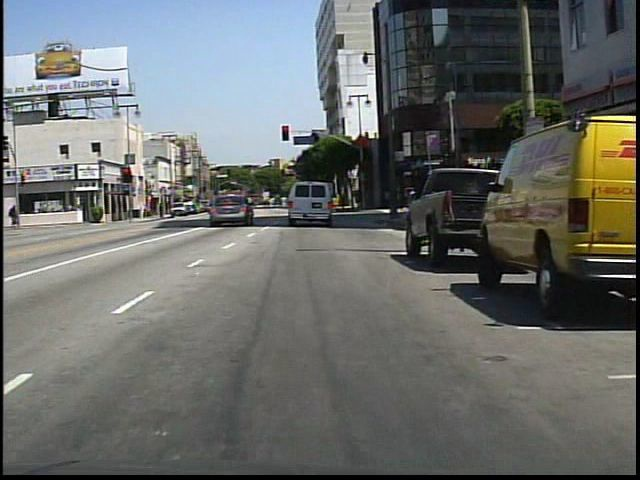person: (291, 188, 311, 222), (8, 202, 23, 230), (243, 193, 258, 220)
